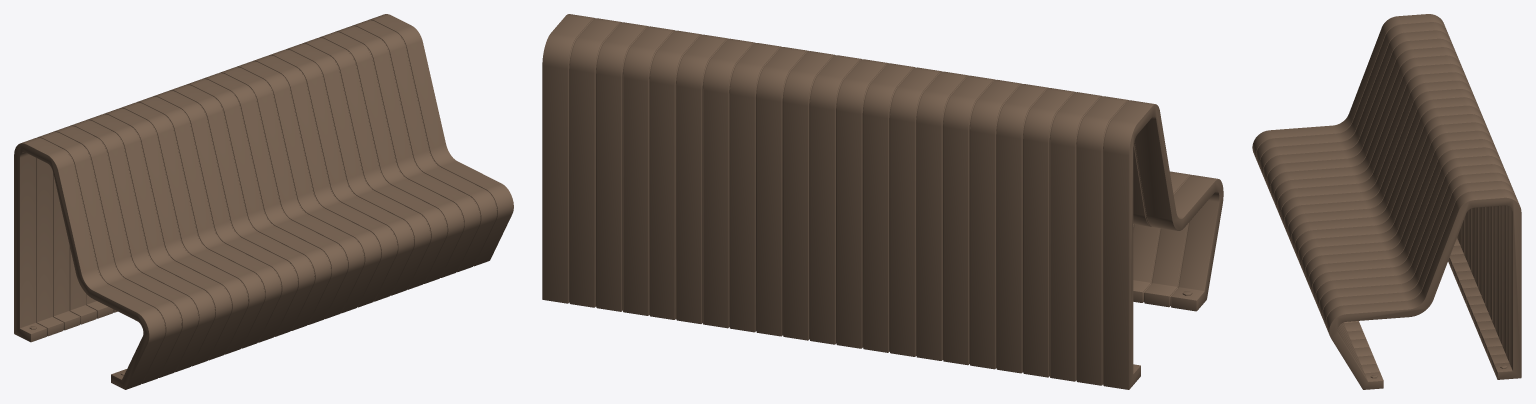
File: bench.FBX
The picture shows the model from 3 angles, left to right: view 1: azimuth 30°, elevation 25°; view 2: azimuth 150°, elevation 25°; view 3: azimuth 270°, elevation 25°; orthographic projection. The views are drawn at different scales.
Parts seen in each view (by area): view 1: Line001; view 2: Line001; view 3: Line001.
Boxes of the visible parts, left/top/right/bottom form: Line001: left=14, top=14, right=513, bottom=389; Line001: left=542, top=14, right=1223, bottom=389; Line001: left=1252, top=14, right=1521, bottom=389.
Size of the model in its own units: 788 by 337 by 452.
